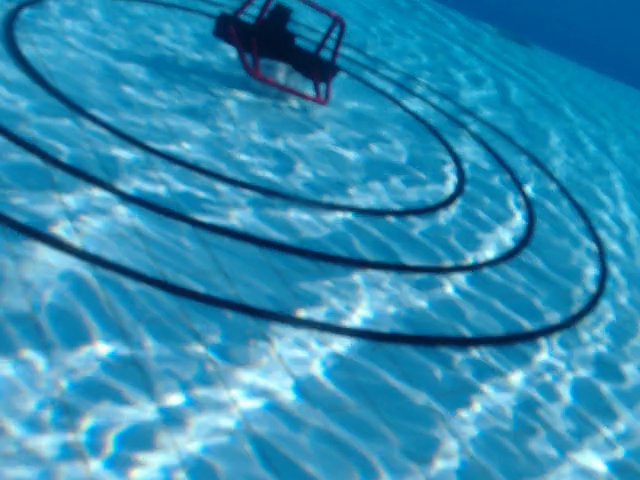submarine: (213, 1, 347, 107)
